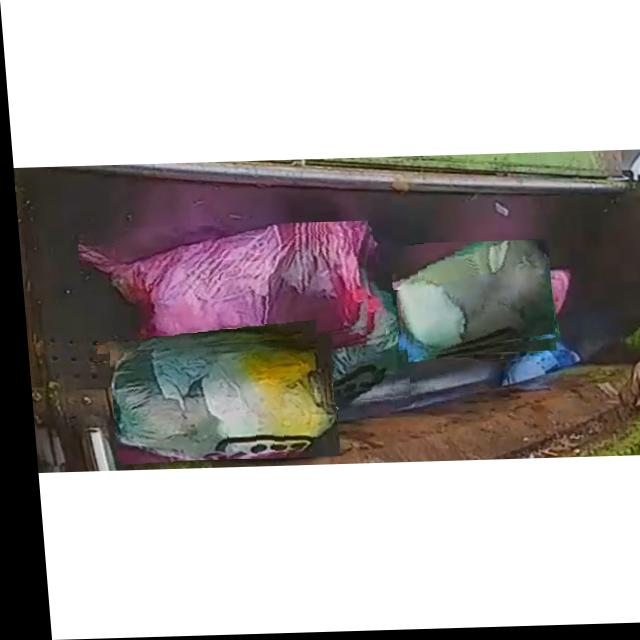general_trashbag: (106, 345, 329, 461), (392, 243, 547, 356), (321, 293, 402, 406)
other_trashbag: (75, 224, 367, 344)
